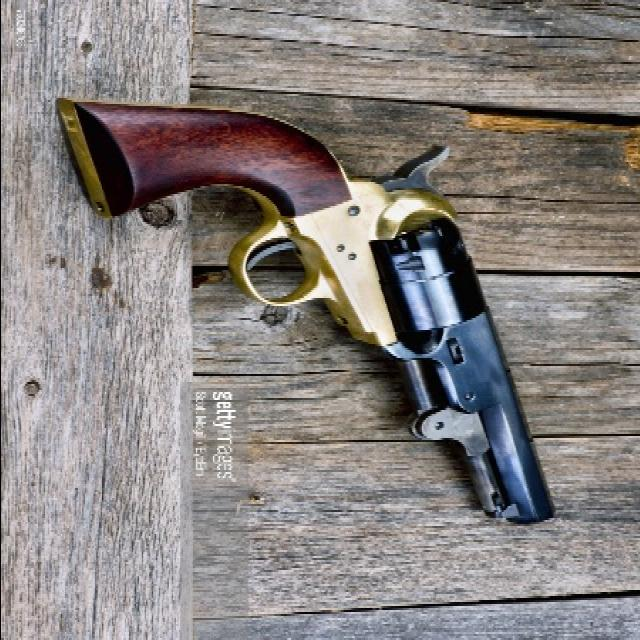handgun: (67, 97, 556, 527)
